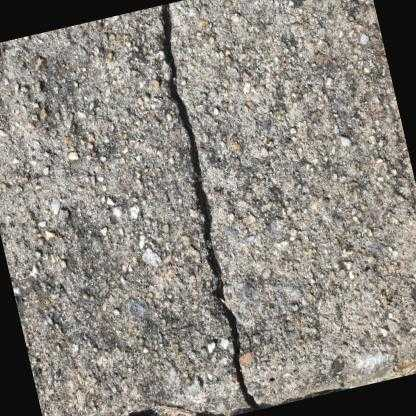crack: (161, 4, 258, 411)
